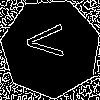V: (26, 23, 73, 60)
